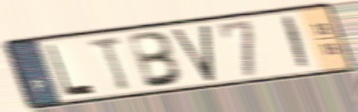7: (213, 17, 256, 79)
B: (126, 29, 186, 91)
I: (281, 13, 312, 72)
L: (45, 42, 98, 98)
T: (86, 34, 135, 93)
V: (170, 22, 217, 84)
